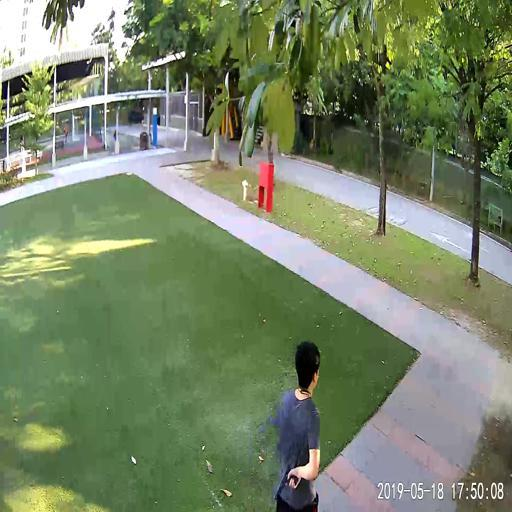Handgun: (272, 465, 297, 500)
